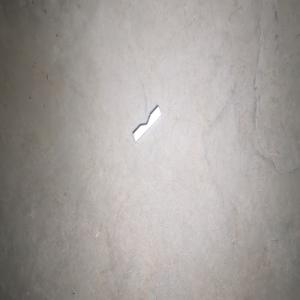ClampPart: (132, 105, 161, 143)
